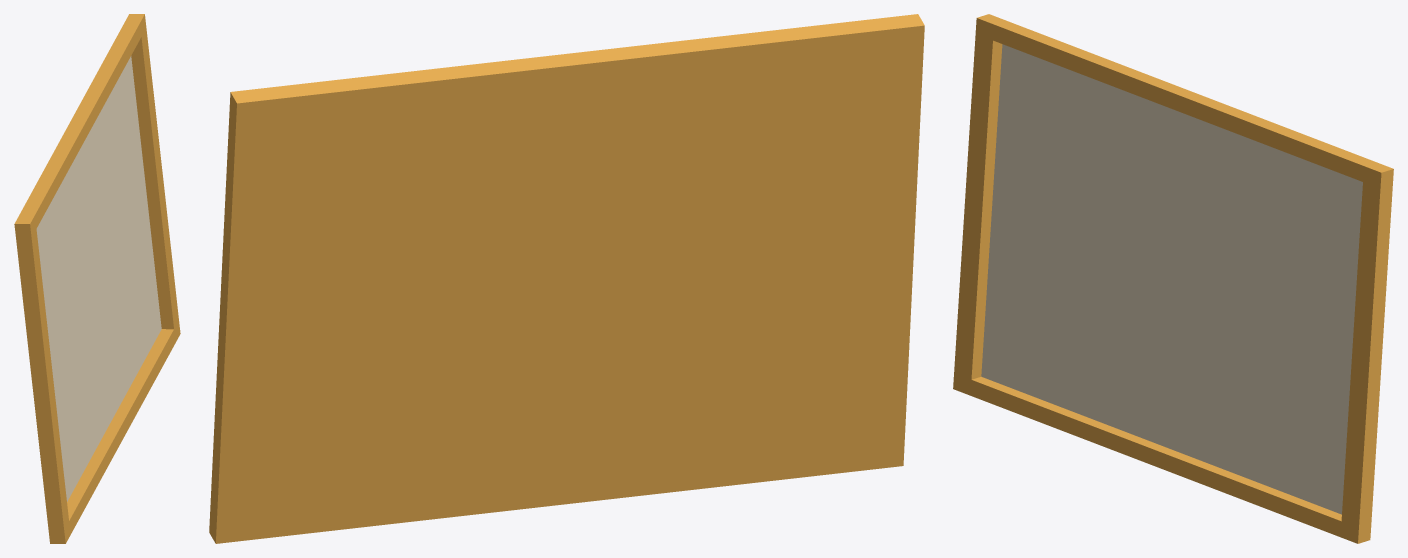
File: MemorialRoom_Picture_frame_medium_2.fbx
3 views of the same model, side by side, from view 1: azimuth 30°, elevation 25°; view 2: azimuth 150°, elevation 25°; view 3: azimuth 270°, elevation 25° (orthographic). The views are drawn at different scales.
Parts seen in each view (by area): view 1: Picture.004; view 2: Picture.004; view 3: Picture.004.
Part boxes in pixels (x1=…): Picture.004: x1=14, y1=14, x2=180, y2=543; Picture.004: x1=209, y1=14, x2=924, y2=543; Picture.004: x1=953, y1=14, x2=1393, y2=543.
Size of the model in its own units: 1366 by 1287 by 1405.
